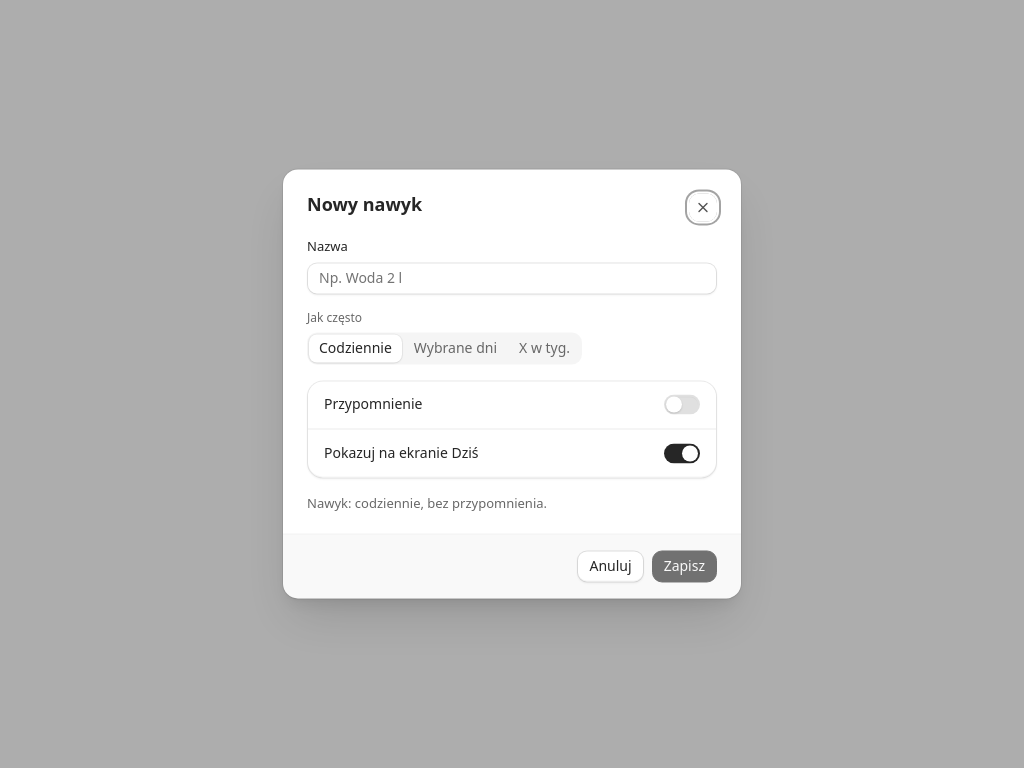
Test: MHabitSheet › Wybrane dni: przyciski od pierwszego dnia tygodnia, bez dni Zapisz nieaktywne
This screenshot has width=1024, height=768.
Type "Bieg" into the field labelled "Nazwa" at (512, 278), box top-left (307, 262), bottom-right (717, 294)
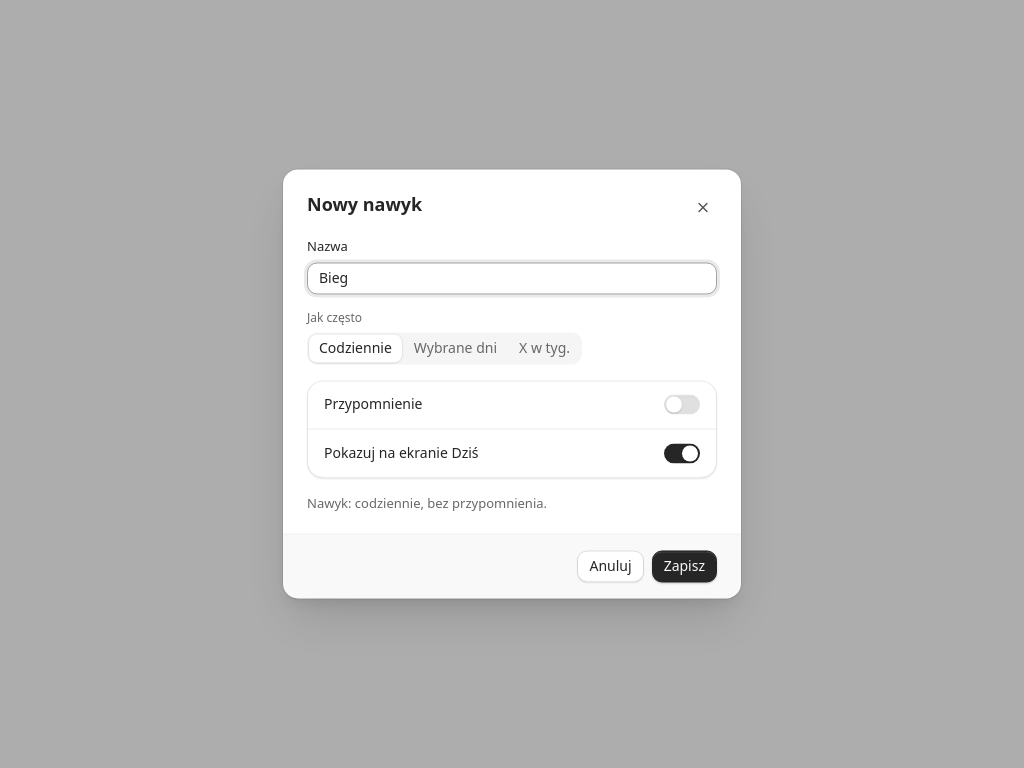
Click the radio button labelled "Wybrane dni" at (455, 348), box top-left (404, 334), bottom-right (507, 362)
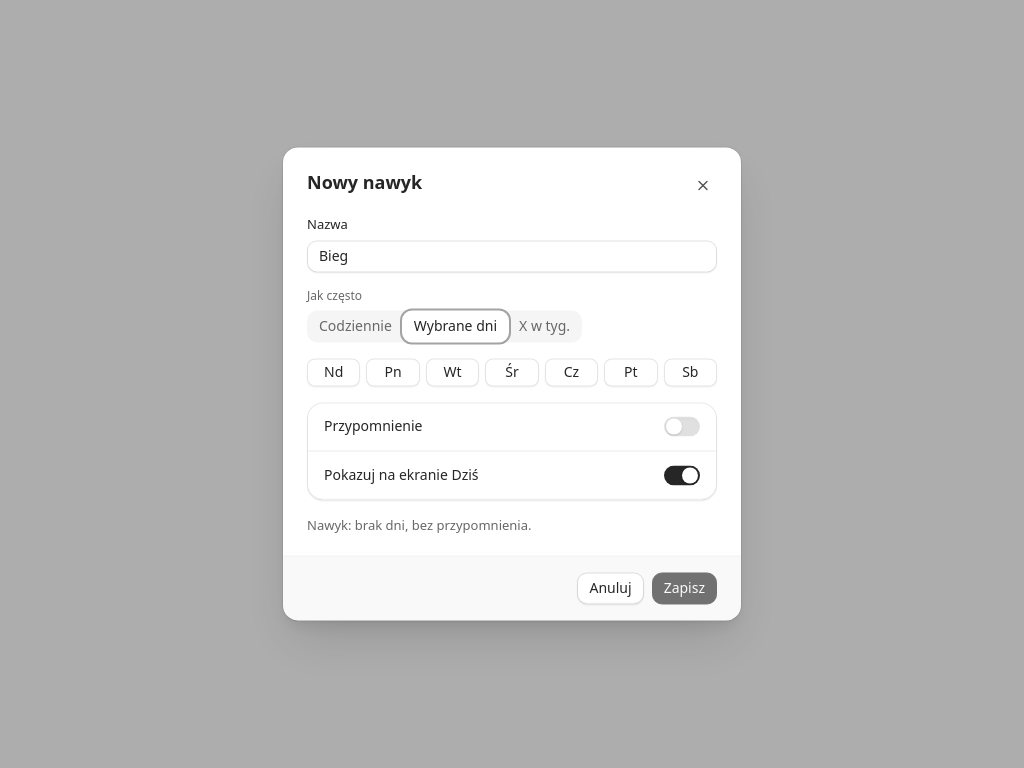
Expected: the text "Nawyk: brak dni, bez przypomnienia." is shown, top-left (307, 516), bottom-right (532, 534)
Click the button with aria-label "piątek" at (631, 372), box top-left (604, 358), bottom-right (658, 386)
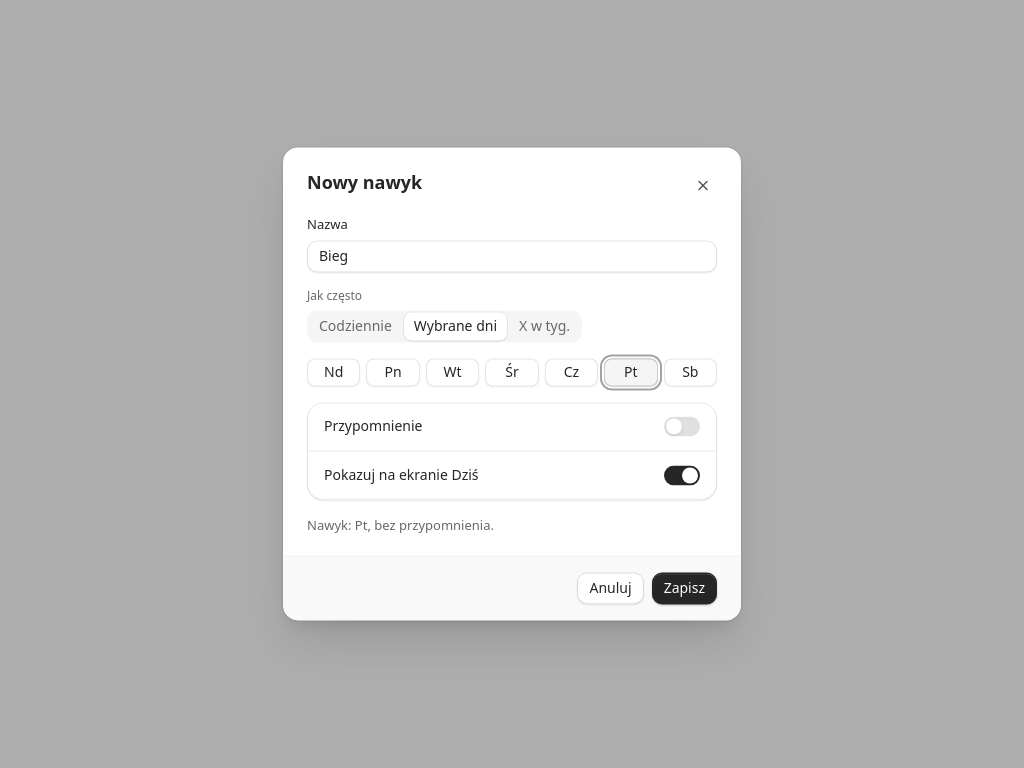
Click the button with aria-label "poniedziałek" at (393, 372), box top-left (366, 358), bottom-right (420, 386)
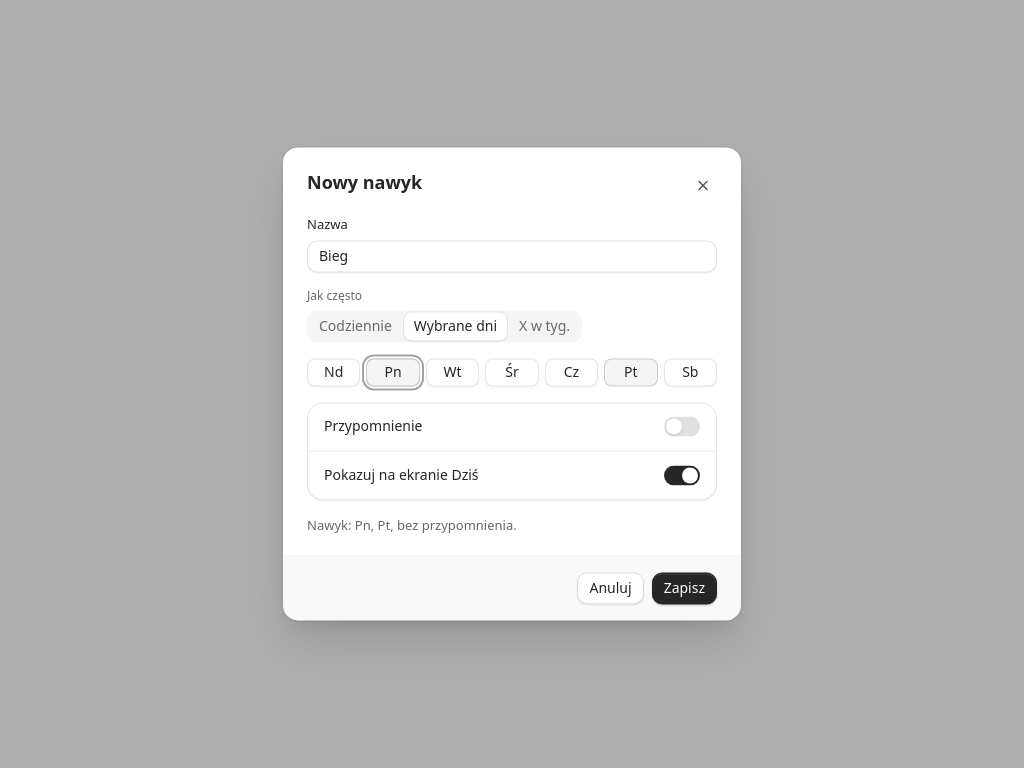
Expected: the text "Nawyk: Pn, Pt, bez przypomnienia." is shown, top-left (307, 516), bottom-right (517, 534)
